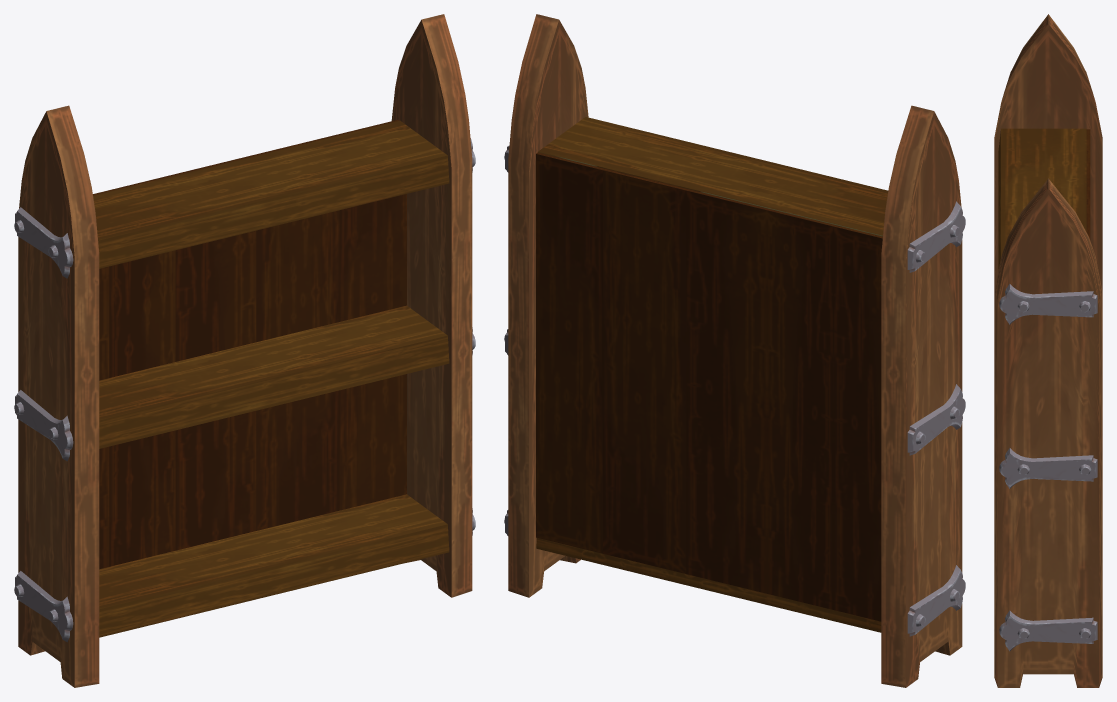
Rendered from shelf_arch.glb.
The picture shows the model from 3 angles, left to right: view 1: azimuth 30°, elevation 25°; view 2: azimuth 150°, elevation 25°; view 3: azimuth 270°, elevation 25°; orthographic projection. The views are drawn at different scales.
Parts seen in each view (by area): view 1: Shelf_Arch; view 2: Shelf_Arch; view 3: Shelf_Arch.
Boxes of the visible parts, x1,y1,x2,y2 form: Shelf_Arch: (14,14,475,687); Shelf_Arch: (504,14,965,687); Shelf_Arch: (994,14,1102,687).
Size of the model in its own units: 1.25 by 1.59 by 0.3116.
2 materials, 2 textured.
